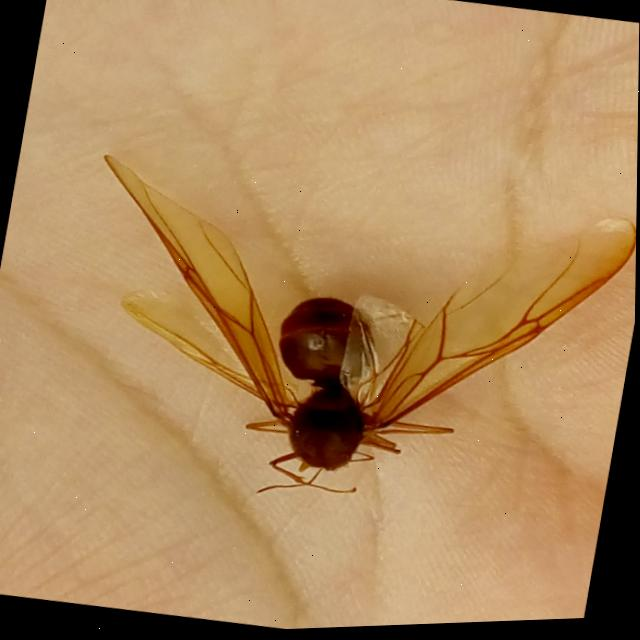Dead-Male-Alate: (50, 138, 638, 554)
